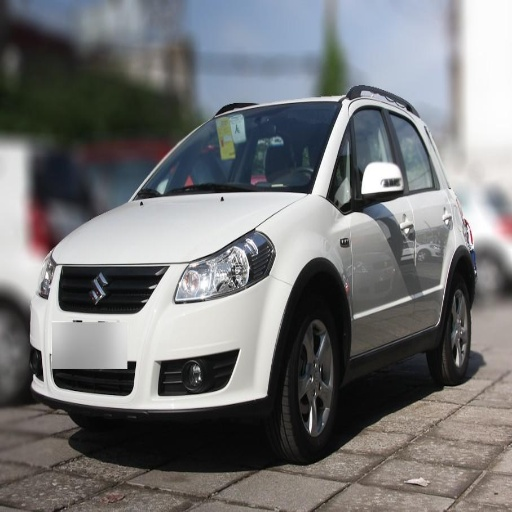front_bumper: (33, 258, 292, 415)
front_glass: (137, 104, 340, 198)
front_left_door: (331, 100, 415, 350)
